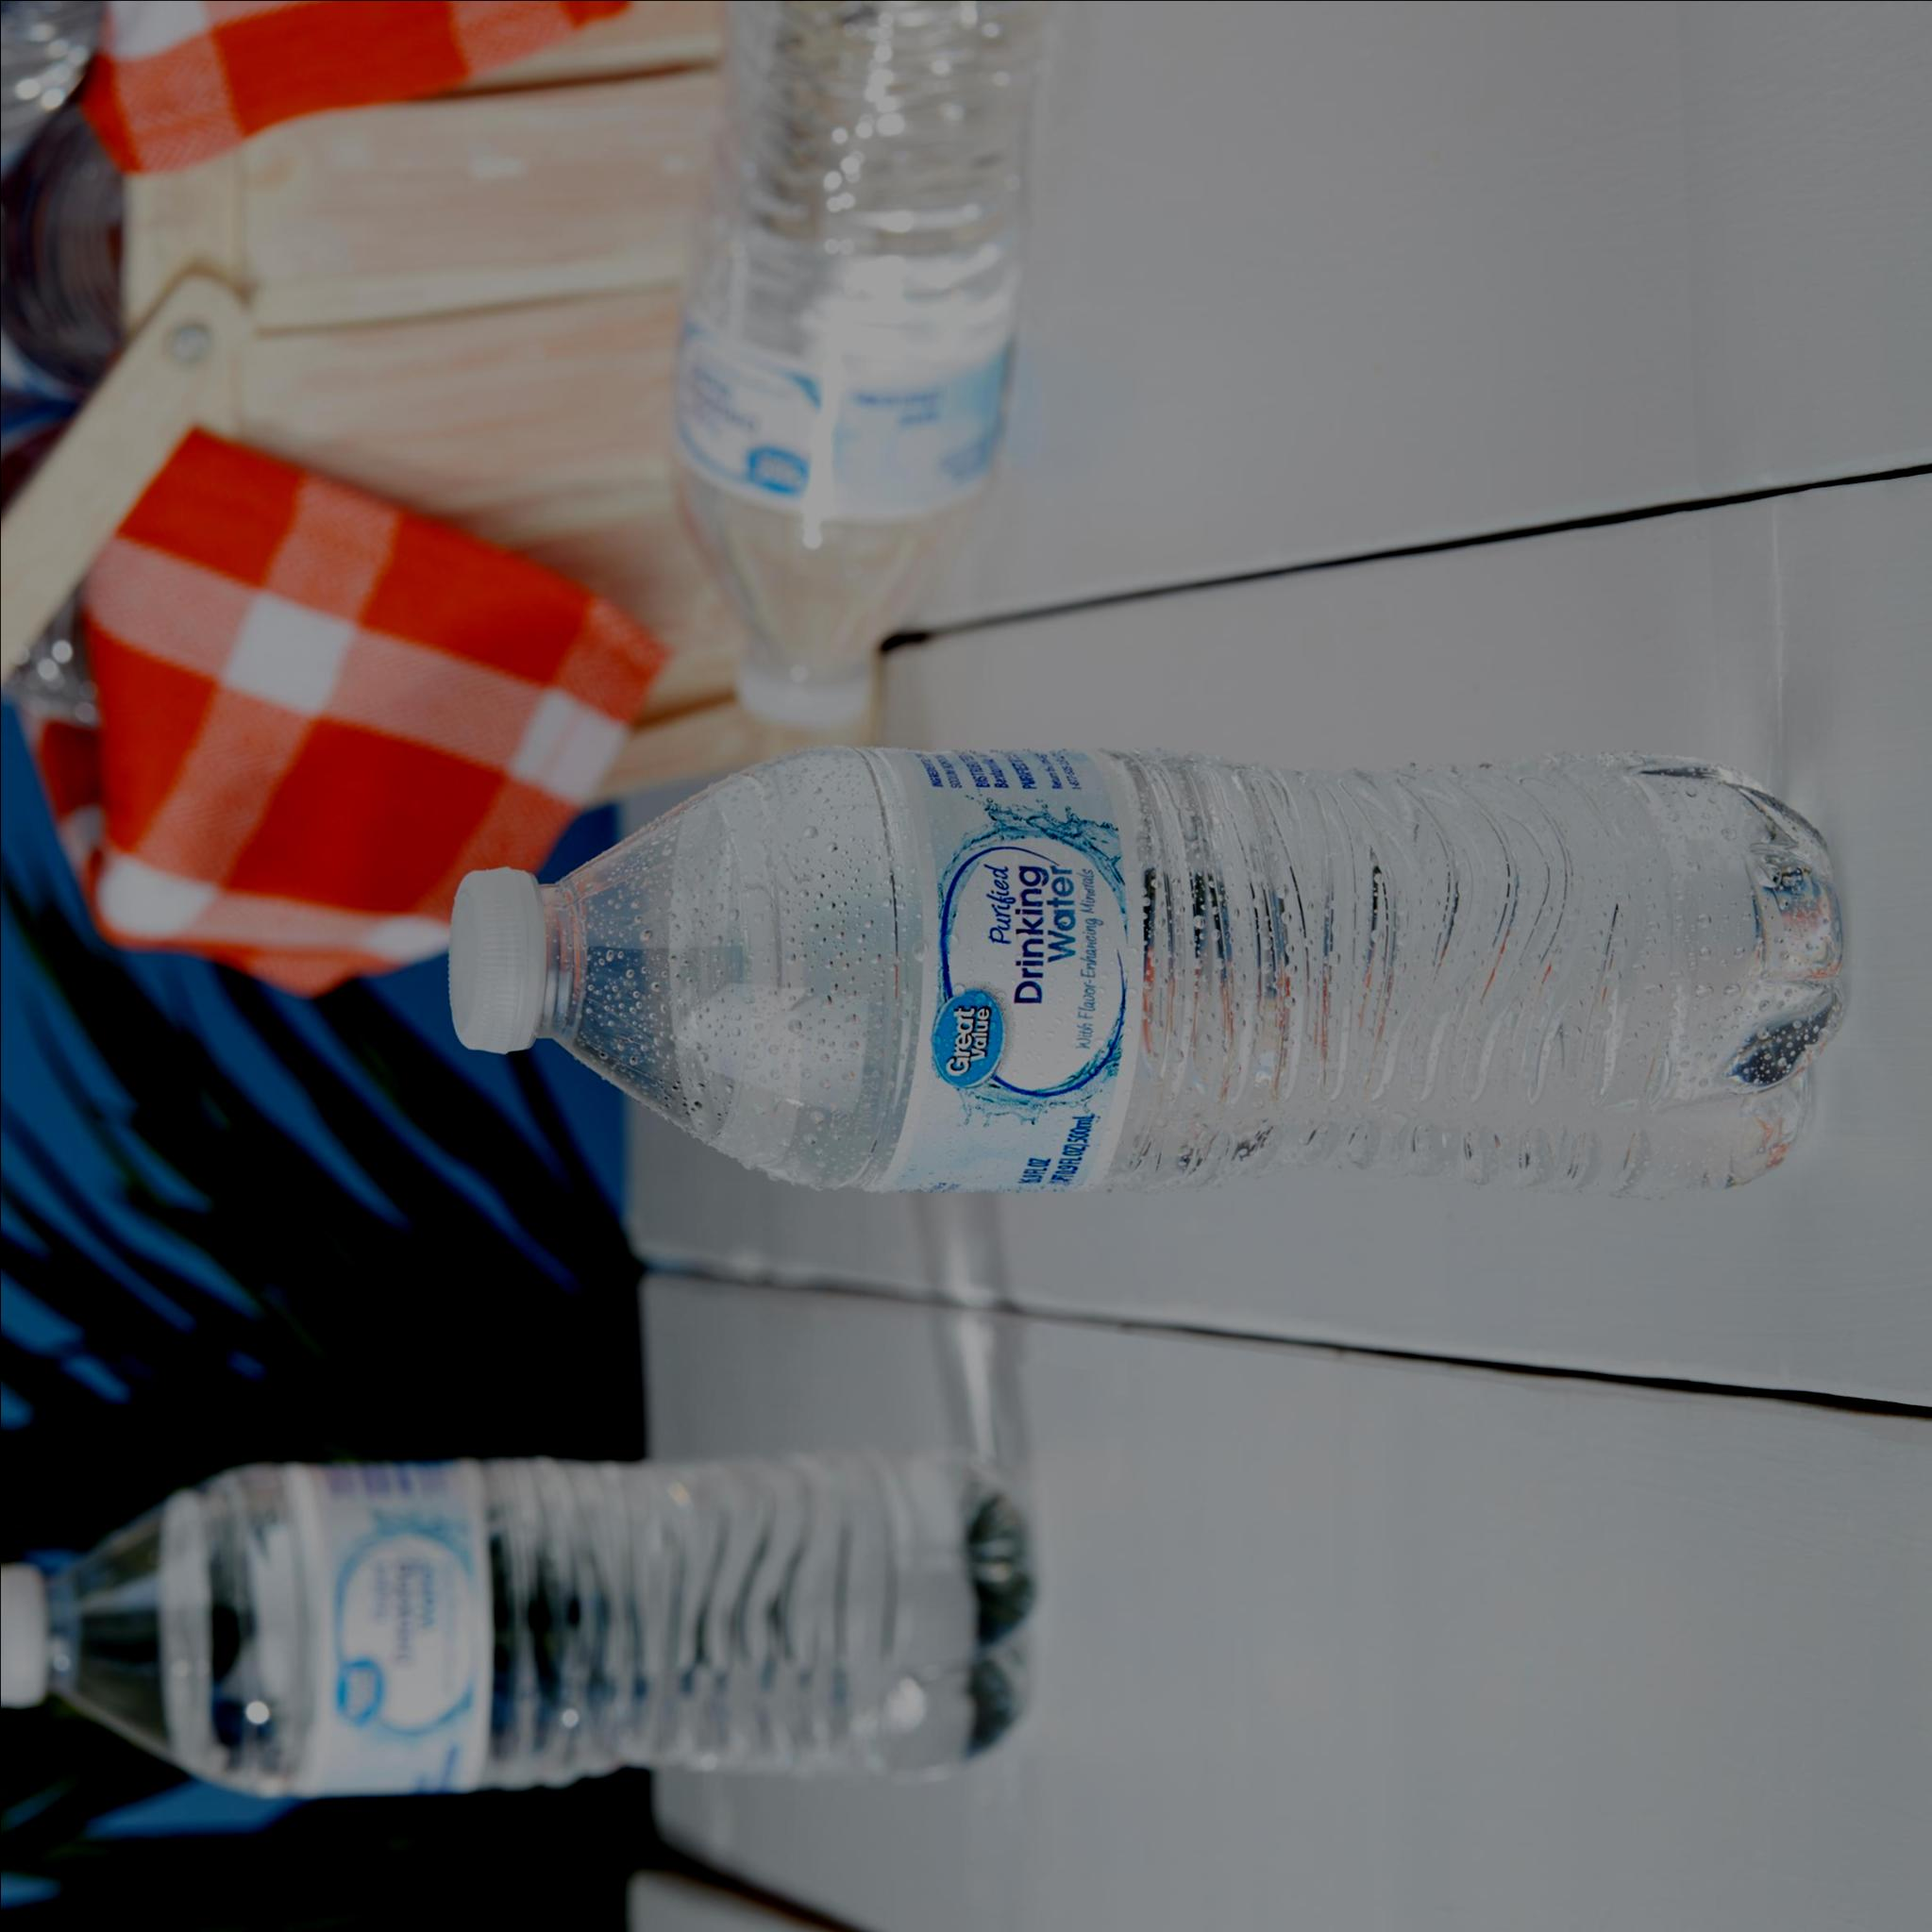bottle: (413, 716, 1874, 1225), (0, 1403, 1076, 1816), (670, 0, 1056, 735)
